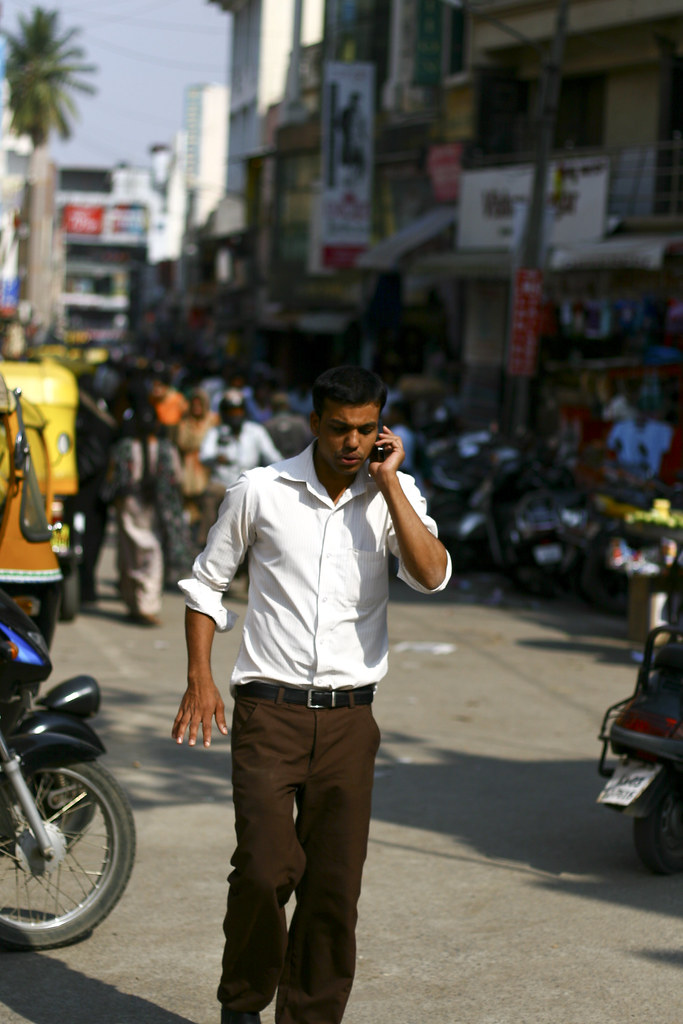phone: (366, 428, 398, 473)
talk: (320, 411, 411, 487)
